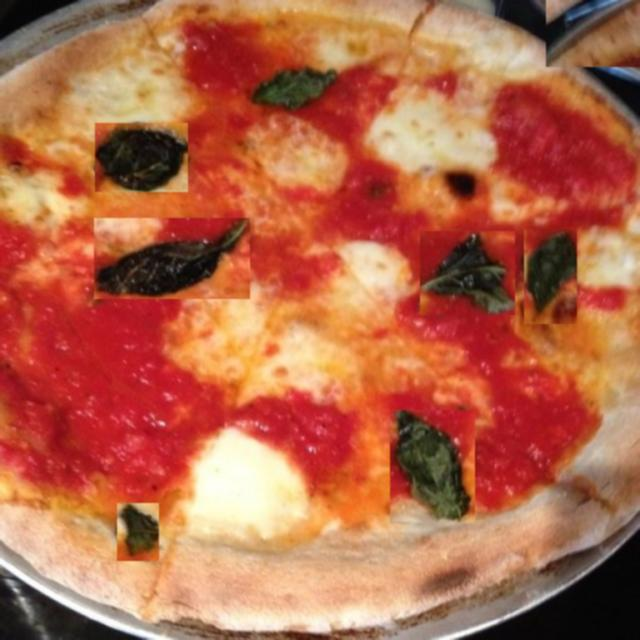basil: (94, 218, 250, 299), (390, 410, 475, 523), (420, 231, 515, 315), (95, 123, 188, 192), (524, 230, 577, 326), (252, 63, 342, 109), (117, 503, 159, 561)
pizza: (1, 0, 640, 640), (546, 0, 640, 67)
